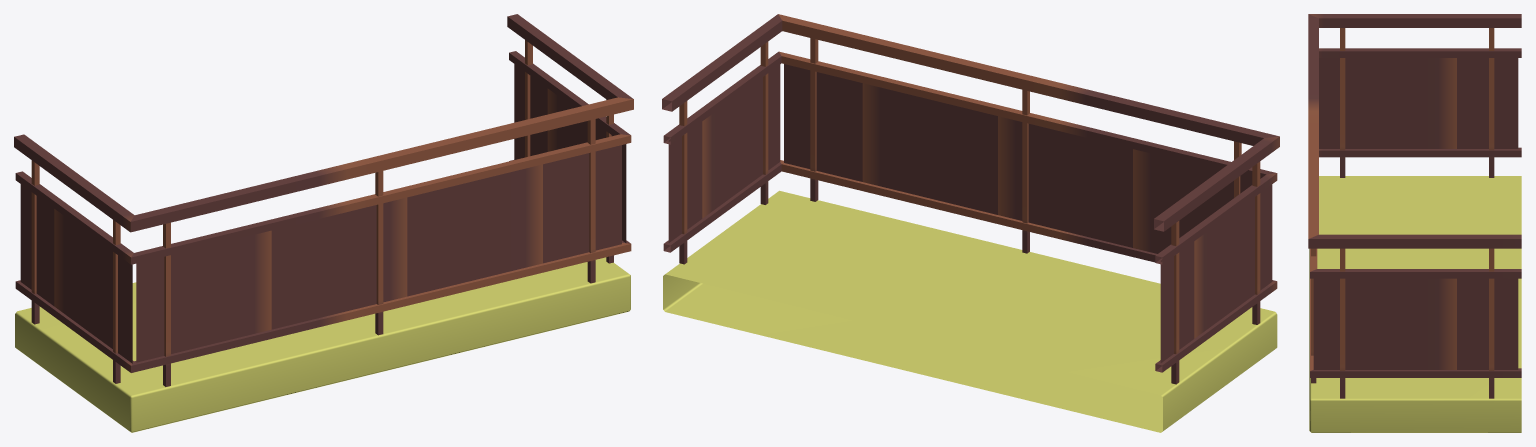
File: DBK_Balcony_A.FBX
3 views of the same model, side by side, from view 1: azimuth 30°, elevation 25°; view 2: azimuth 150°, elevation 25°; view 3: azimuth 270°, elevation 25° (orthographic). The views are drawn at different scales.
Visible parts, largest first — view 1: DBK_Balcony_A_Metal, DBK_Balcony_A; view 2: DBK_Balcony_A_Metal, DBK_Balcony_A; view 3: DBK_Balcony_A_Metal, DBK_Balcony_A.
Part boxes in pixels (x1,y1,x2,y2): DBK_Balcony_A_Metal: [14, 14, 633, 386]; DBK_Balcony_A: [15, 257, 630, 432]; DBK_Balcony_A_Metal: [662, 14, 1279, 384]; DBK_Balcony_A: [663, 190, 1277, 432]; DBK_Balcony_A_Metal: [1308, 14, 1521, 398]; DBK_Balcony_A: [1309, 176, 1521, 432].
Size of the model in its own units: 251 by 102 by 101.
